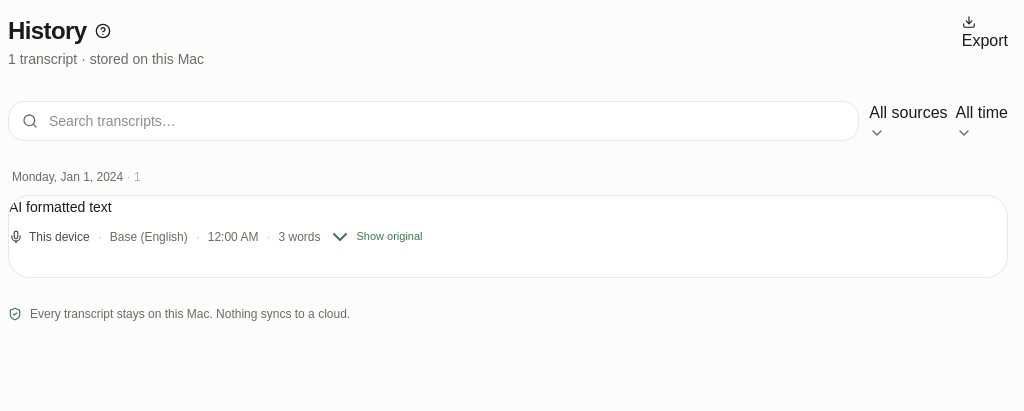
Test case: original text toggle › clicking toggle swaps displayed text to original and back
Expected: the button "AI formatted text" is shown, [9, 196, 1007, 219]
Expected: the text "raw transcript before AI" is not shown
Click to expand the original block — polished text stays visible
Click the button "Show original".
click(376, 237)  # box [328, 225, 422, 249]
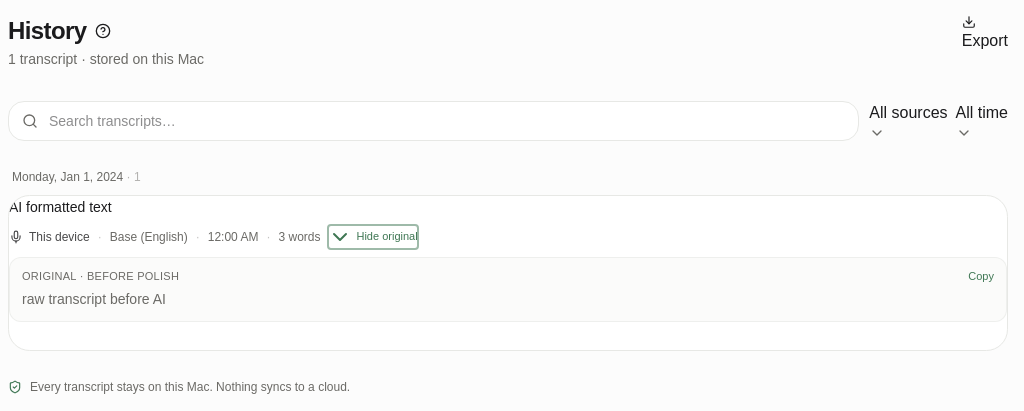
Expected: the button "AI formatted text" is shown, [9, 196, 1007, 219]
Result: the text "raw transcript before AI" is shown at [22, 291, 166, 307]
Result: the button "Hide original" is shown
Click again to collapse the original block
Click the button "Hide original".
click(373, 237)  # box [328, 225, 418, 249]
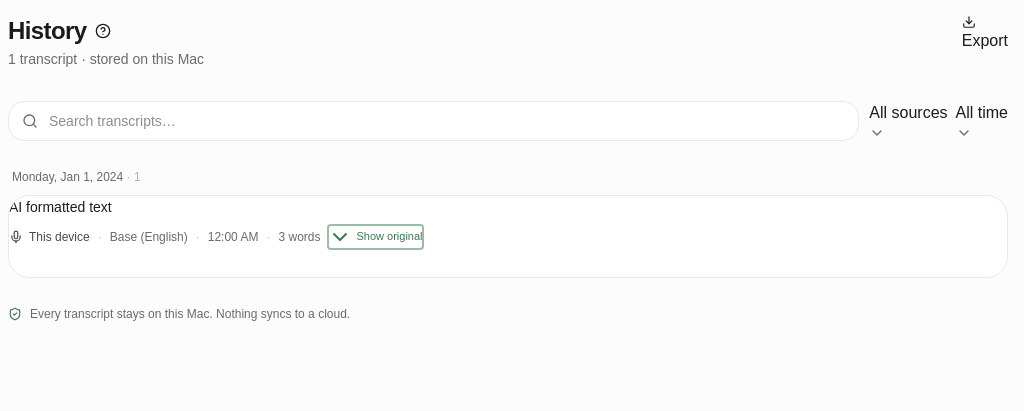
Expected: the button "AI formatted text" is shown, [9, 196, 1007, 219]
Result: the text "raw transcript before AI" is gone
Result: the button "Show original" is shown at [328, 225, 422, 249]
